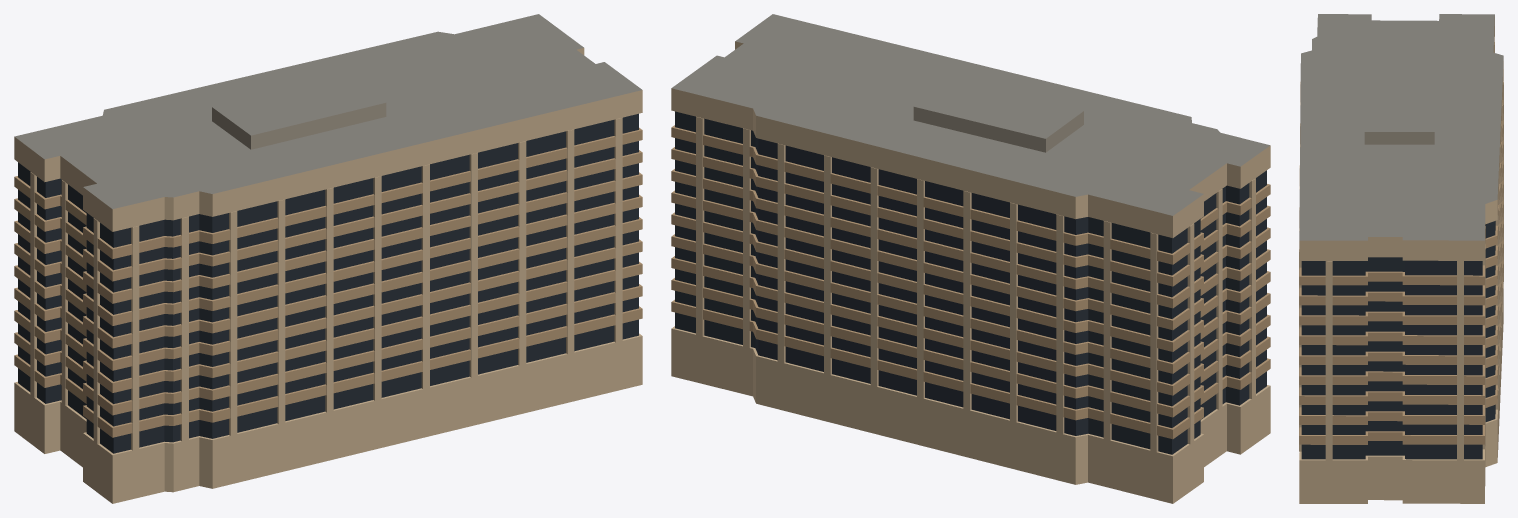
The model's file is hotel_building_w699020_w699020450.glb.
3 renders of one model, left to right at view 1: azimuth 30°, elevation 25°; view 2: azimuth 150°, elevation 25°; view 3: azimuth 270°, elevation 25°, orthographic. The views are drawn at different scales.
Visible parts, largest first — view 1: HotelSlab; view 2: HotelSlab; view 3: HotelSlab.
Part boxes in pixels (<box>): HotelSlab: <box>14,14,642,503</box>; HotelSlab: <box>671,14,1270,503</box>; HotelSlab: <box>1299,14,1503,503</box>.
Size of the model in its own units: 69.28 by 39.3 by 26.43.
